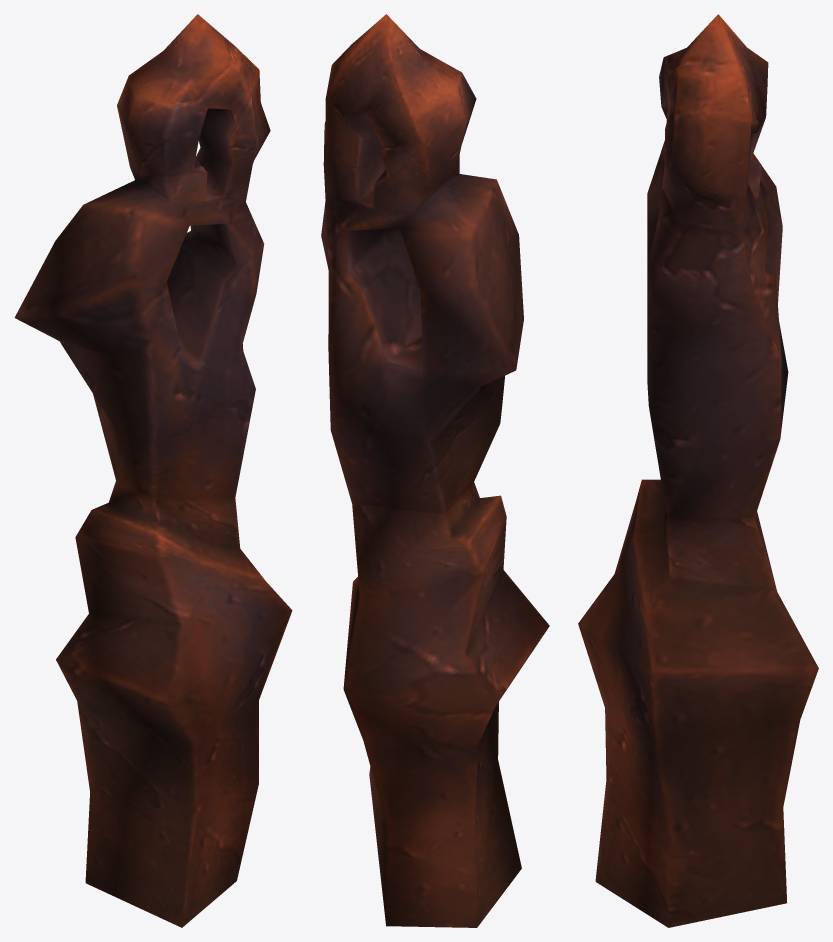
The model's file is huoguanshizhu07.FBX.
The picture shows the model from 3 angles, left to right: view 1: azimuth 30°, elevation 25°; view 2: azimuth 150°, elevation 25°; view 3: azimuth 270°, elevation 25°; orthographic projection. The views are drawn at different scales.
Visible parts, largest first — view 1: huoguanshizhu7; view 2: huoguanshizhu7; view 3: huoguanshizhu7.
Part boxes in pixels (<box>): huoguanshizhu7: <box>14,14,292,927</box>; huoguanshizhu7: <box>321,14,549,927</box>; huoguanshizhu7: <box>578,14,818,927</box>.
Size of the model in its own units: 515 by 458 by 1898.
